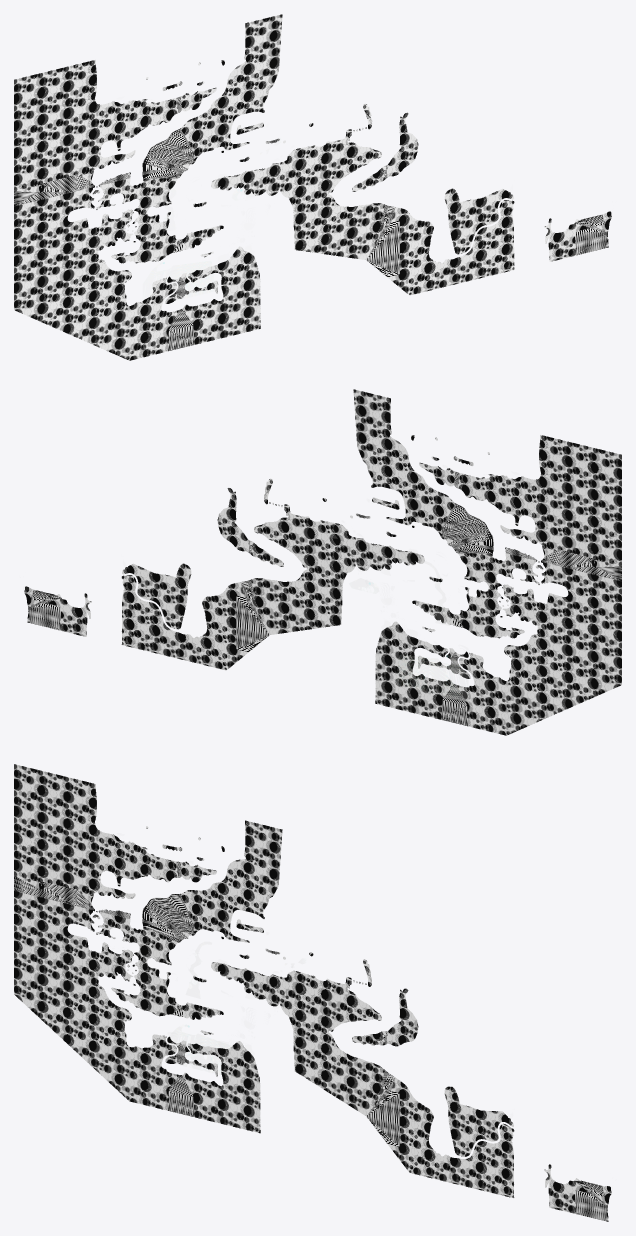
Rendered from jungle02.glb.
The picture shows the model from 3 angles, top to bottom: view 1: azimuth 30°, elevation 25°; view 2: azimuth 150°, elevation 25°; view 3: azimuth 330°, elevation 25°; orthographic projection.
Visible parts, largest first — view 1: jungle02; view 2: jungle02; view 3: jungle02.
Part boxes in pixels (x1,y1,x2,y2): jungle02: (14, 14, 611, 360); jungle02: (24, 389, 621, 735); jungle02: (14, 764, 611, 1221).
Bounding box in the file's own units: 4713 × 2319 × 167.
Materials: 3 (3 with a texture image).
